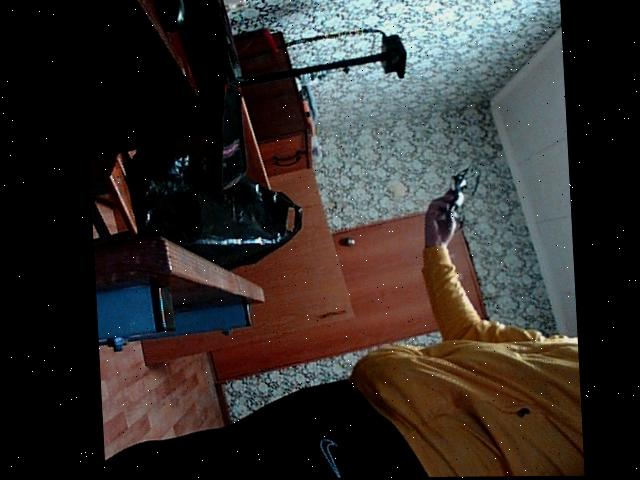drone: (424, 163, 486, 238)
